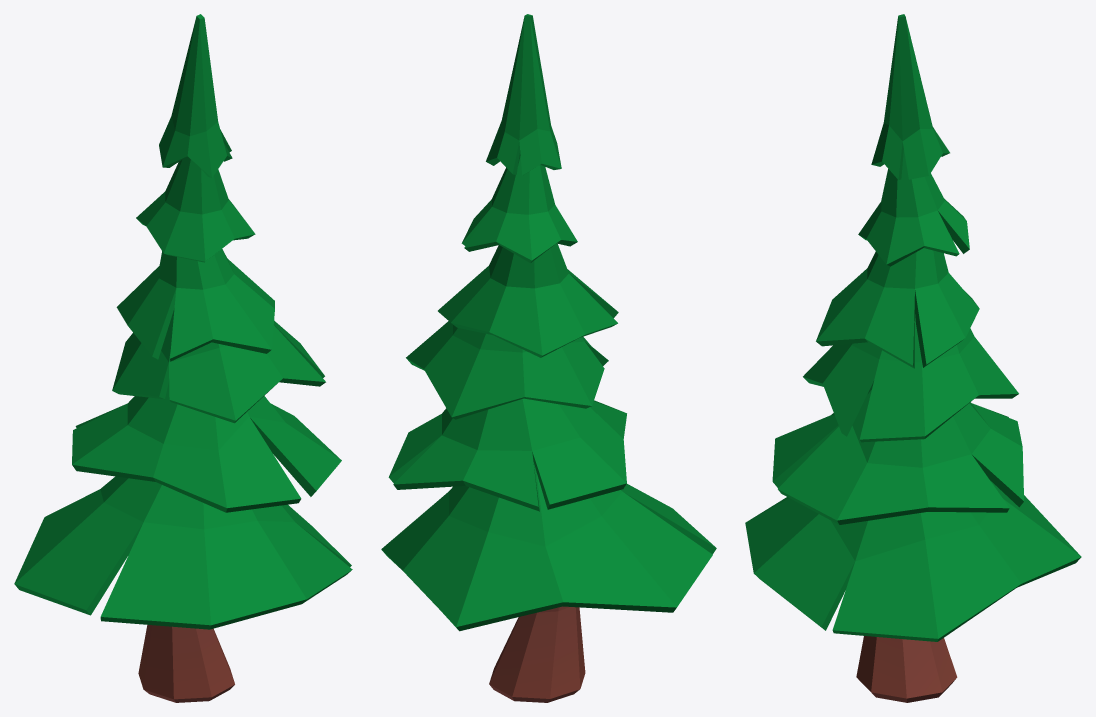
The model's file is Pine.obj.
3 views of the same model, side by side, from view 1: azimuth 30°, elevation 25°; view 2: azimuth 150°, elevation 25°; view 3: azimuth 270°, elevation 25° (orthographic).
Parts seen in each view (by area): view 1: Circle, Cylinder; view 2: Circle, Cylinder; view 3: Circle, Cylinder.
Boxes of the visible parts, x1,y1,x2,y2 form: Circle: (14,14,352,629); Cylinder: (138,625,234,702); Circle: (381,14,716,631); Cylinder: (489,606,585,702); Circle: (745,14,1081,641); Cylinder: (856,636,957,702).
Size of the model in its own units: 7.5 by 16.1 by 7.28.
